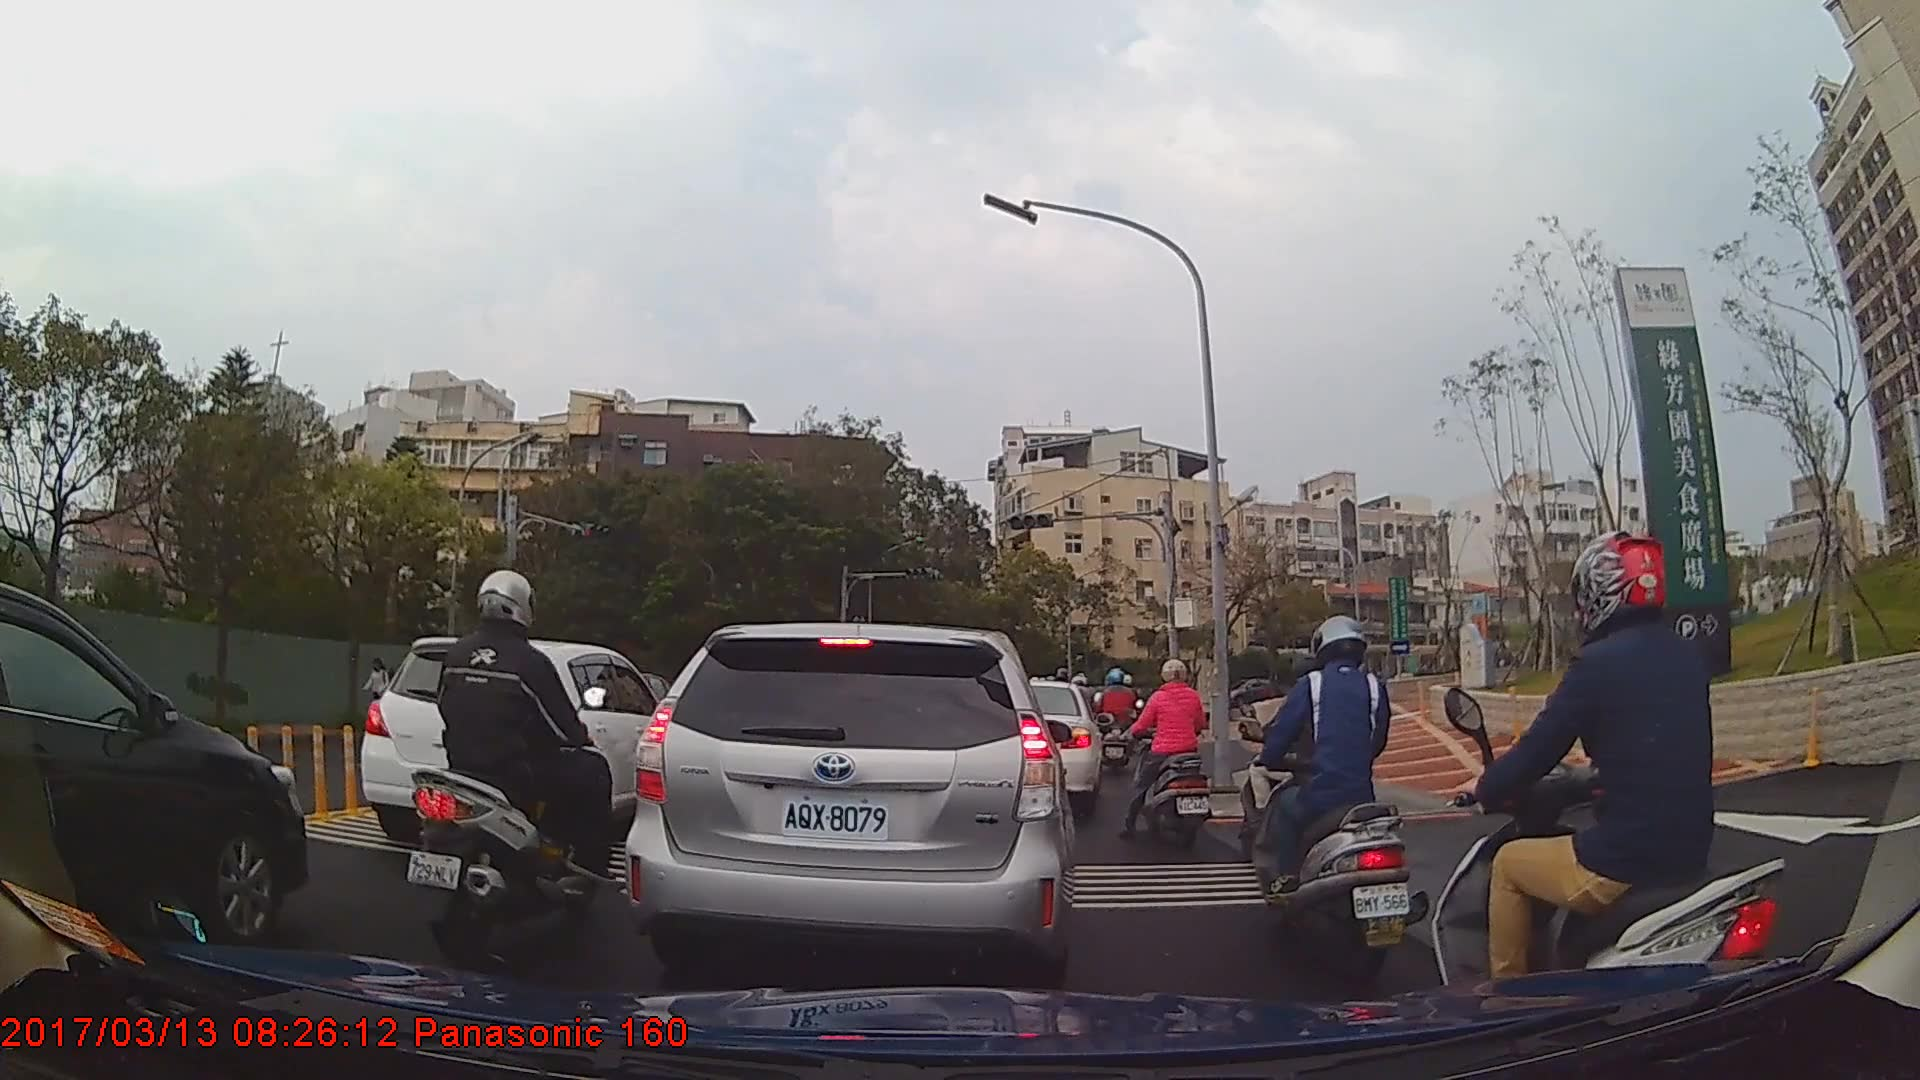pedestrian: (363, 658, 395, 735)
rider: (1433, 526, 1795, 1071), (400, 568, 623, 968), (1245, 614, 1421, 1000), (1130, 661, 1217, 855), (1093, 666, 1141, 772)
vehicle: (622, 623, 1078, 1002), (0, 579, 308, 947), (358, 634, 672, 856), (997, 678, 1104, 811), (1222, 677, 1281, 706)
